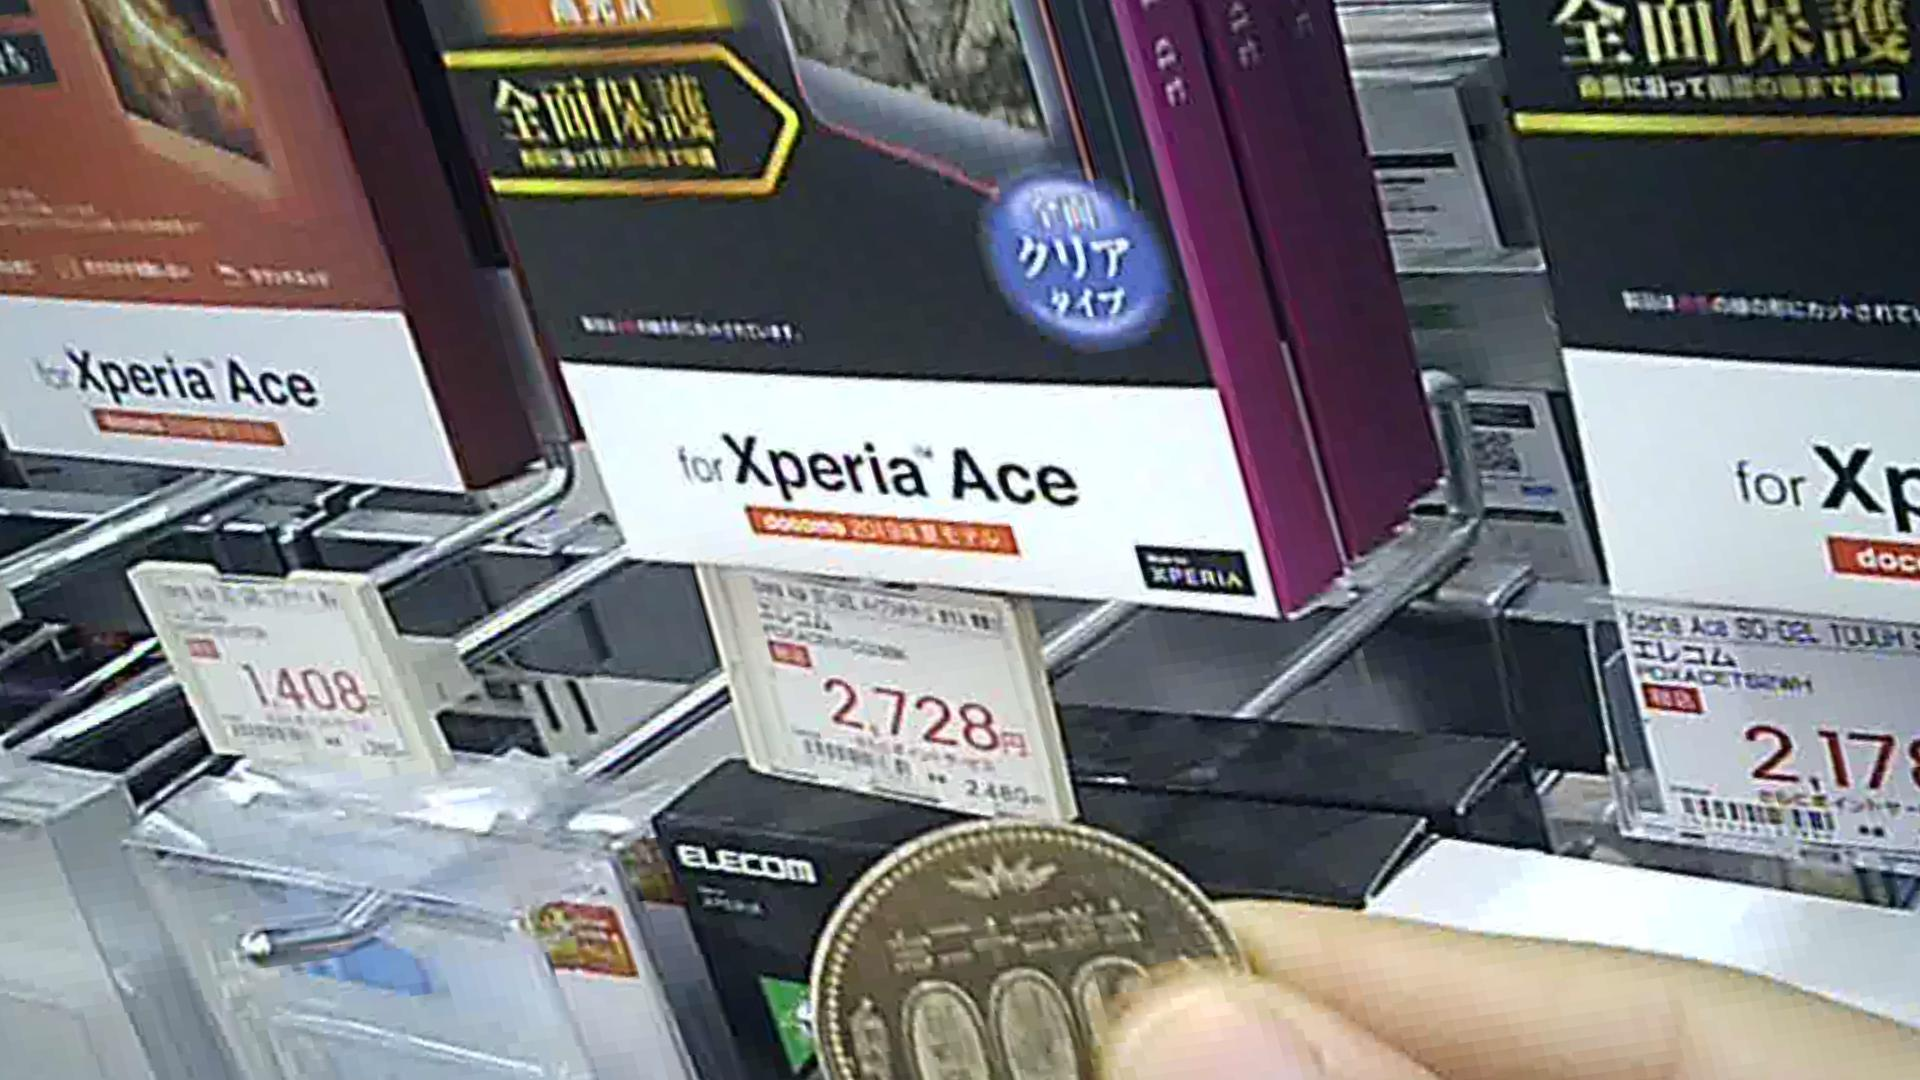500 Yen: (800, 824, 1255, 1079)
